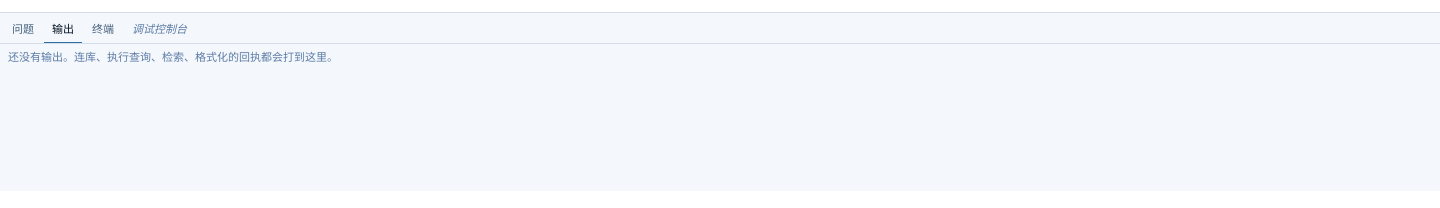
BottomPanel 终端页签挂载冒烟 › 渲染源是 chunk.screen：输出区显示领域层投影文本
Click the tab "终端" at {"x": 103, "y": 28}, box left=84, top=13, right=122, bottom=43
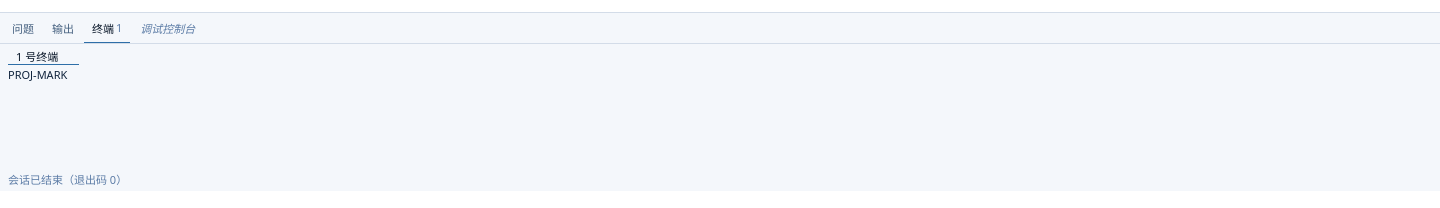
Check: the text "PROJ-MARK" is shown, box left=8, top=67, right=67, bottom=82
